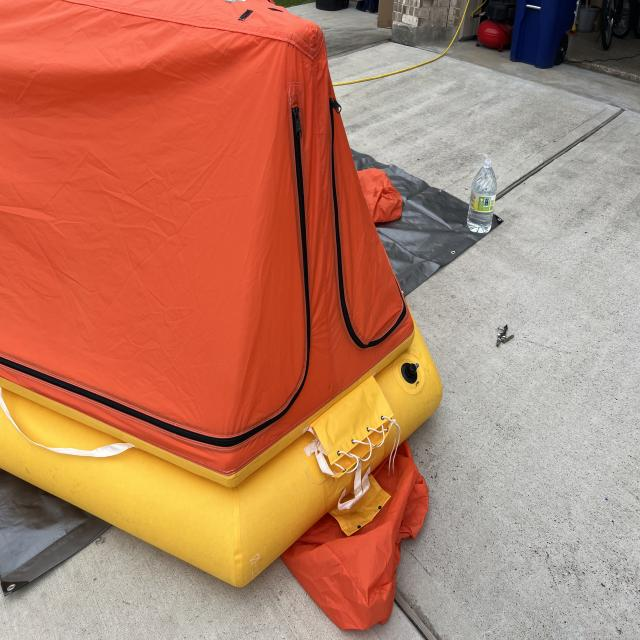Multi-person_life_raft: (0, 1, 444, 639)
